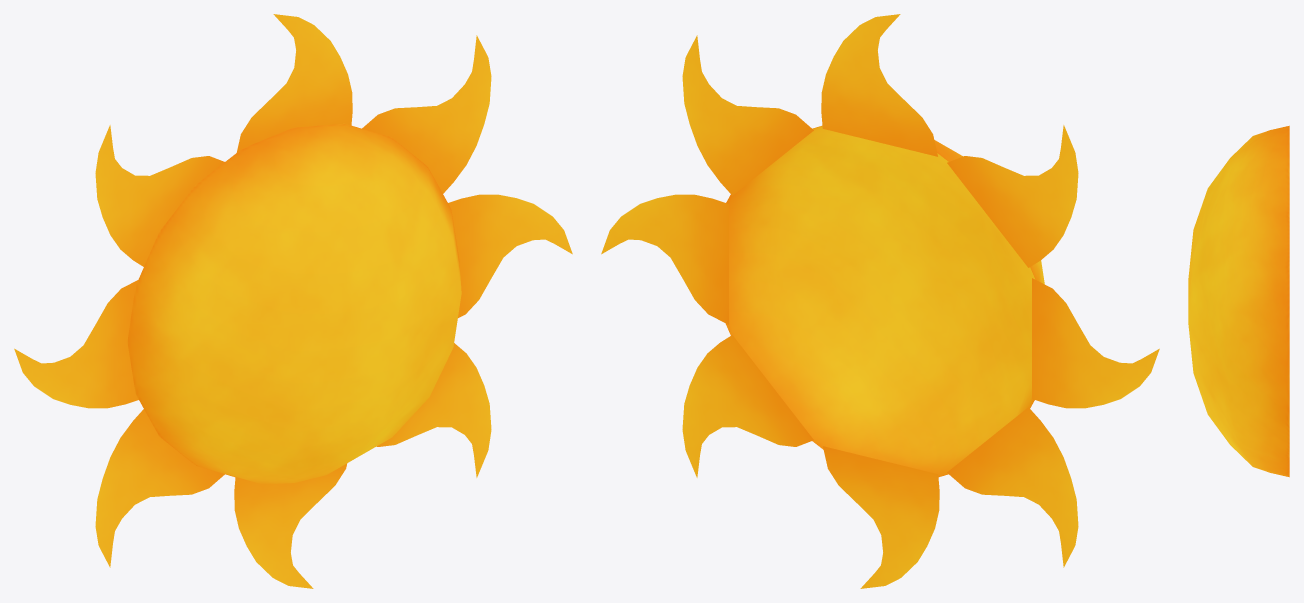
Rendered from sun.fbx.
3 views of the same model, side by side, from view 1: azimuth 30°, elevation 25°; view 2: azimuth 150°, elevation 25°; view 3: azimuth 270°, elevation 25° (orthographic). The views are drawn at different scales.
Visible parts, largest first — view 1: sun; view 2: sun; view 3: sun.
Boxes of the visible parts, <box> form: sun: <box>14,14,572,588</box>; sun: <box>601,14,1159,588</box>; sun: <box>1188,125,1289,477</box>.
Size of the model in its own units: 16.83 by 16.83 by 2.85.
